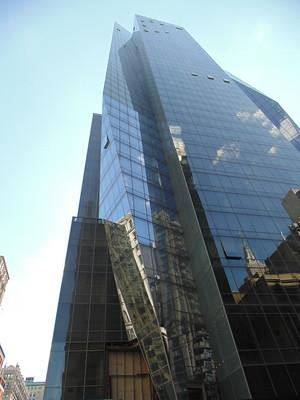building: (38, 8, 297, 398)
